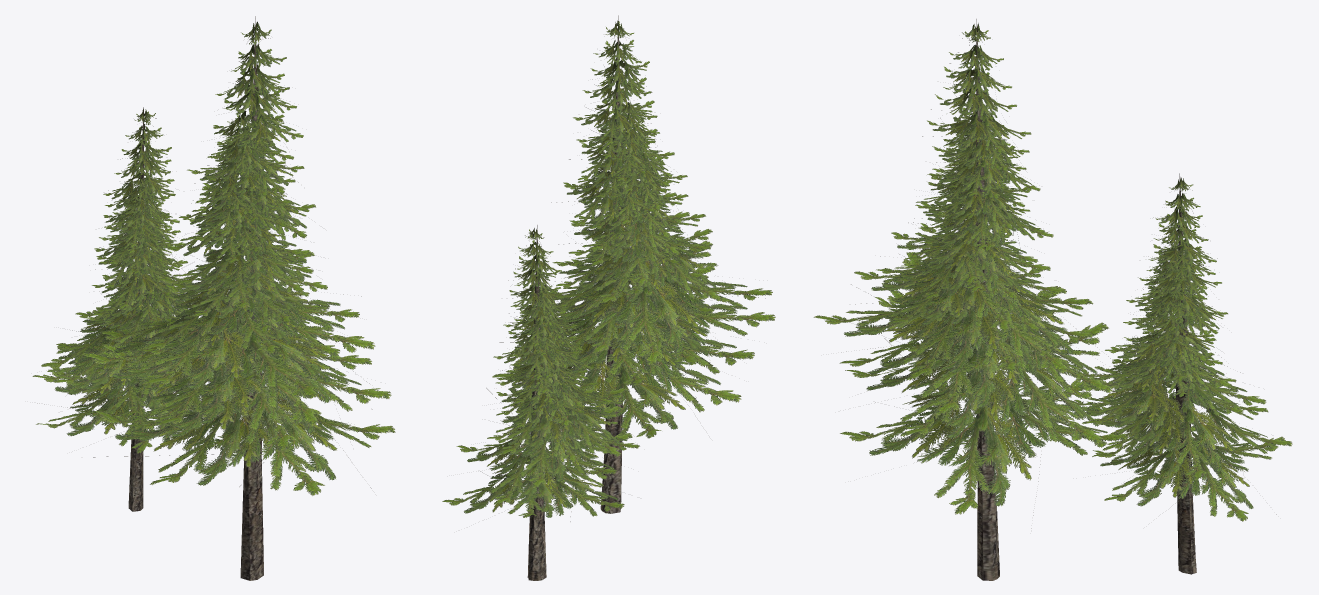
File: pine_tree_01.glb
The picture shows the model from 3 angles, left to right: view 1: azimuth 30°, elevation 25°; view 2: azimuth 150°, elevation 25°; view 3: azimuth 270°, elevation 25°; orthographic projection. The views are drawn at different scales.
Visible parts, largest first — view 1: Object_2; view 2: Object_2; view 3: Object_2.
Boxes of the visible parts, bbox=[...] form: Object_2: bbox=[32, 16, 395, 580]; Object_2: bbox=[442, 15, 775, 580]; Object_2: bbox=[813, 19, 1292, 580].
Bounding box in the file's own units: 1.13 × 2.01 × 1.61.
1 material, 1 textured.
